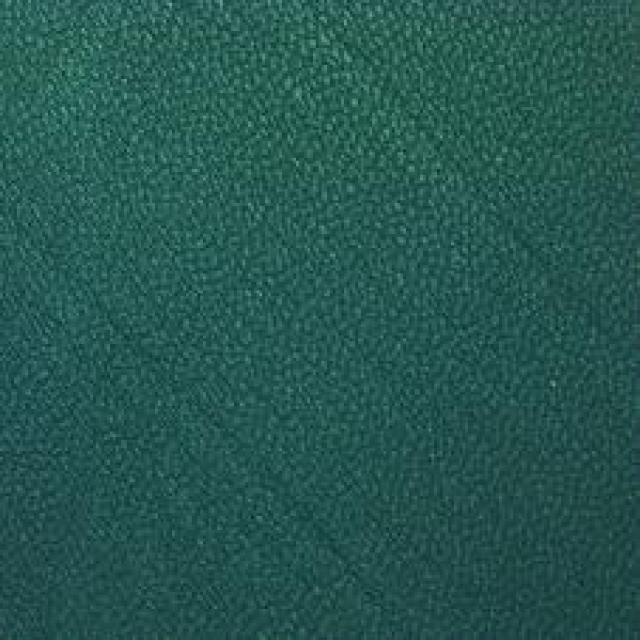Growth Marks: (81, 293, 269, 483), (335, 42, 547, 194)
